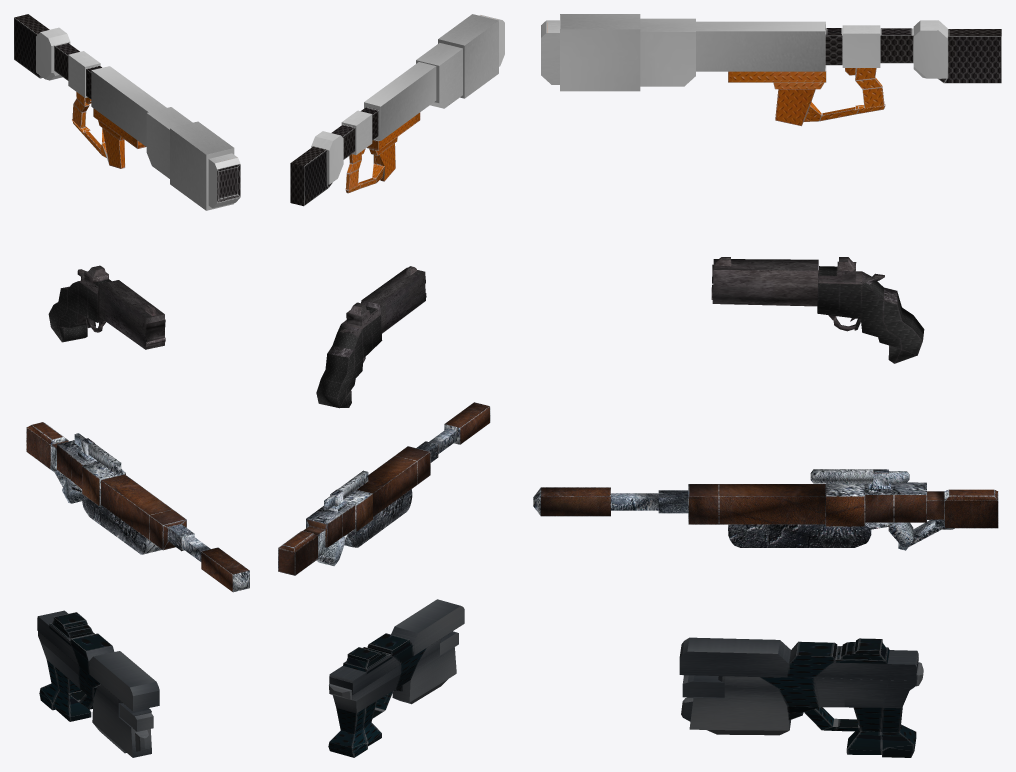
Rendered from Guns.fbx.
The picture shows the model from 3 angles, left to right: view 1: azimuth 30°, elevation 25°; view 2: azimuth 150°, elevation 25°; view 3: azimuth 270°, elevation 25°; orthographic projection. The views are drawn at different scales.
Parts seen in each view (by area): view 1: Machine, Assualt, Laser, Generic; view 2: Machine, Laser, Assualt, Generic; view 3: Machine, Laser, Assualt, Generic.
Boxes of the visible parts, box(x1,y1,x2,y2) form: Machine: box(14, 14, 240, 210); Assualt: box(26, 422, 249, 592); Laser: box(37, 610, 159, 757); Generic: box(48, 265, 165, 349); Machine: box(290, 14, 504, 206); Laser: box(328, 599, 464, 757); Assualt: box(278, 402, 490, 575); Generic: box(316, 266, 426, 408); Machine: box(541, 14, 1001, 126); Laser: box(679, 637, 923, 757); Assualt: box(533, 469, 998, 550); Generic: box(711, 257, 924, 363).
Bounding box in the file's own units: 73.83 × 800 × 463.
